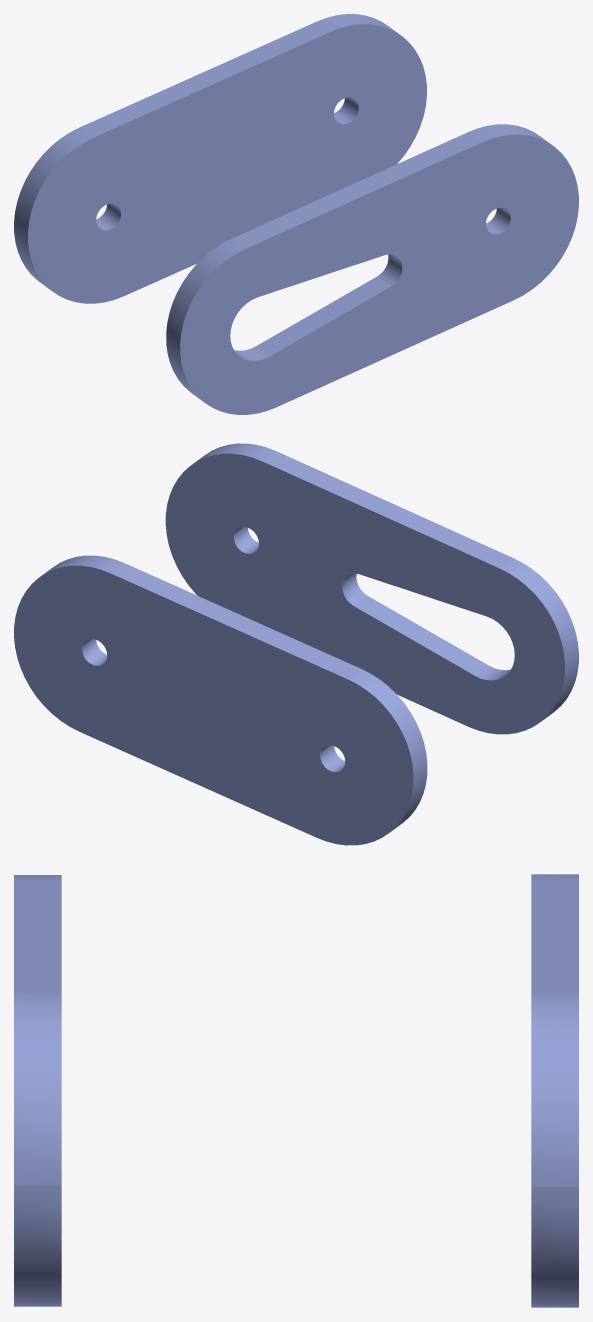
Rendered from Wrist.fbx.
3 views of the same model, one above another, from view 1: azimuth 30°, elevation 25°; view 2: azimuth 150°, elevation 25°; view 3: azimuth 270°, elevation 25° (orthographic). The views are drawn at different scales.
Visible parts, largest first — view 1: nodes[1], nodes[0]; view 2: nodes[1], nodes[0]; view 3: nodes[1], nodes[0].
Part boxes in pixels (x1,y1,x2,y2): nodes[1]: (14, 14, 426, 303); nodes[0]: (166, 124, 578, 414); nodes[1]: (14, 555, 427, 845); nodes[0]: (165, 443, 578, 734); nodes[1]: (531, 874, 578, 1307); nodes[0]: (14, 875, 61, 1306).
Size of the model in its own units: 49.46 by 25.8 by 35.56.
